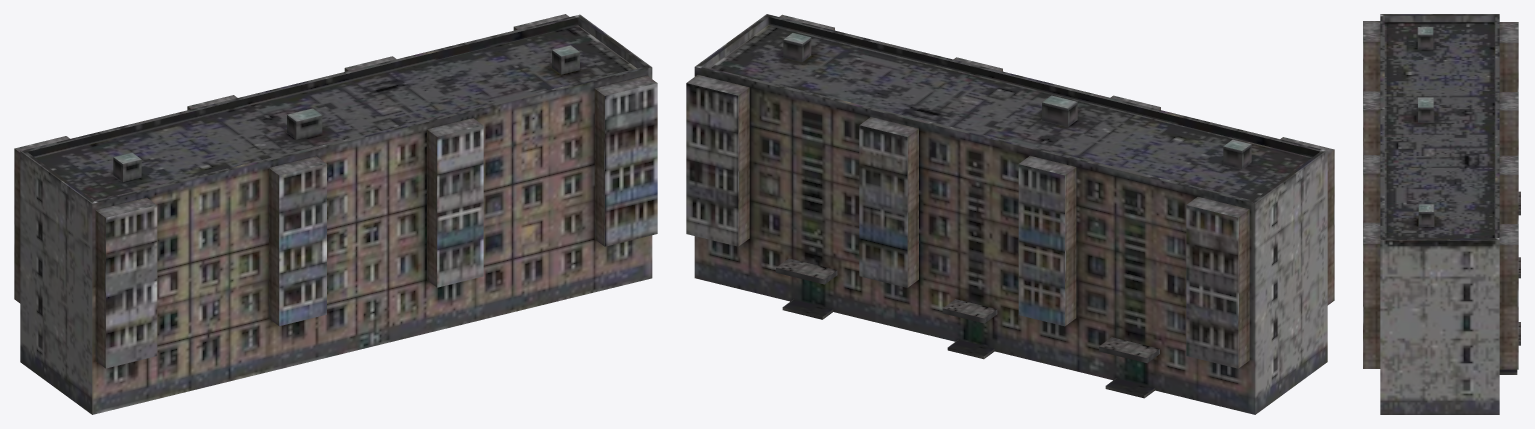
Rendered from khrush.glb.
3 renders of one model, left to right at view 1: azimuth 30°, elevation 25°; view 2: azimuth 150°, elevation 25°; view 3: azimuth 270°, elevation 25°, orthographic. The views are drawn at different scales.
Parts seen in each view (by area): view 1: Object_4.005; view 2: Object_4.005; view 3: Object_4.005.
Part boxes in pixels (<box>): Object_4.005: <box>14,14,657,414</box>; Object_4.005: <box>686,14,1334,414</box>; Object_4.005: <box>1363,14,1520,414</box>.
Bounding box in the file's own units: 20 × 7.55 × 5.89.
1 material, 1 textured.
